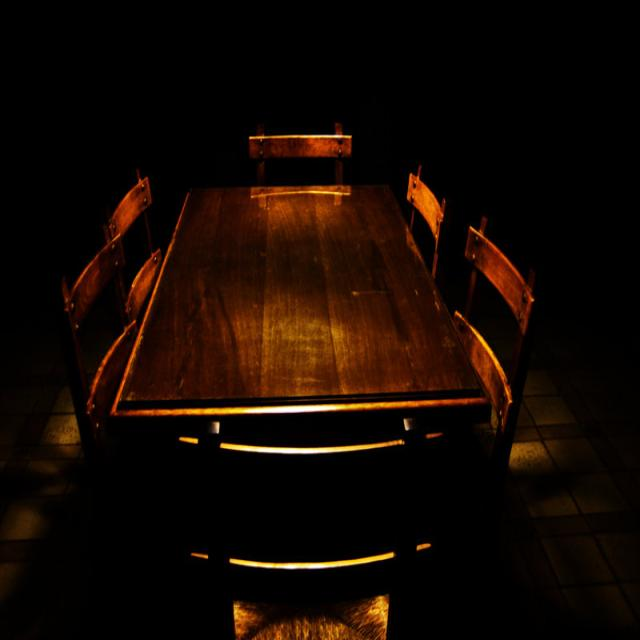Table: (136, 159, 482, 538)
chair: (167, 415, 422, 640), (446, 202, 559, 423), (59, 227, 143, 411), (94, 163, 200, 294), (243, 100, 356, 200), (401, 151, 452, 289)
